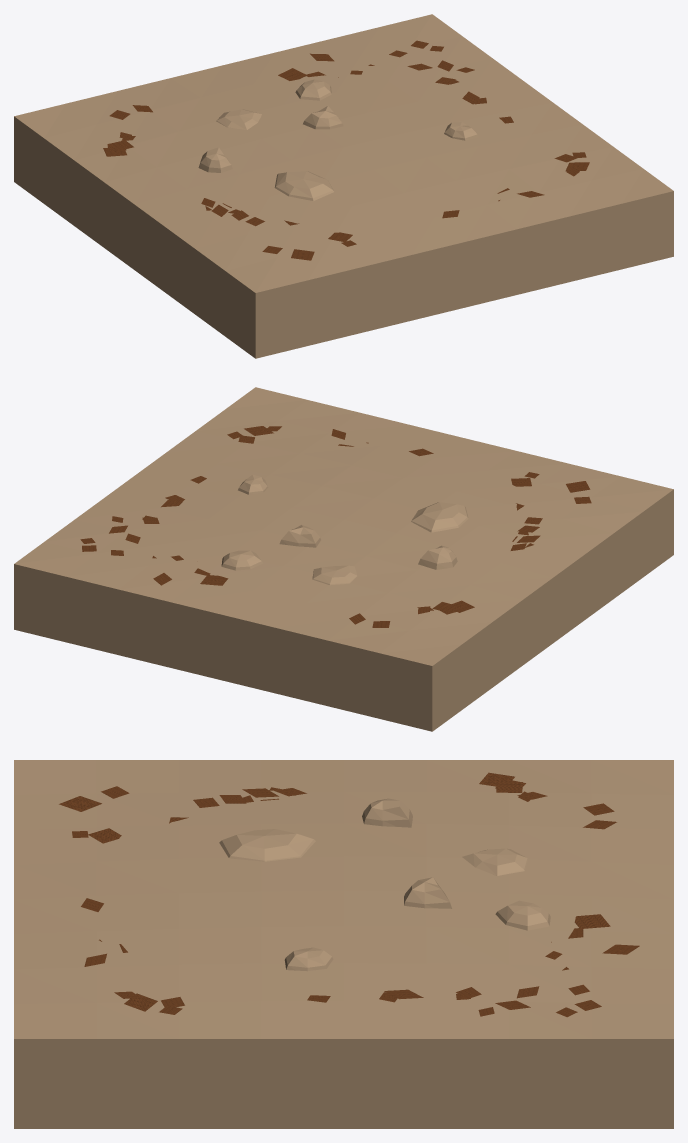
The model's file is pine-needle-tile.glb.
3 renders of one model, top to bottom at view 1: azimuth 30°, elevation 25°; view 2: azimuth 150°, elevation 25°; view 3: azimuth 270°, elevation 25°, orthographic. The views are drawn at different scales.
Visible parts, largest first — view 1: pine-needle-tile; view 2: pine-needle-tile; view 3: pine-needle-tile.
Boxes of the visible parts, left/top/right/bottom form: pine-needle-tile: left=14, top=14, right=673, bottom=358; pine-needle-tile: left=14, top=387, right=673, bottom=731; pine-needle-tile: left=14, top=760, right=673, bottom=1128.
Size of the model in its own units: 2 by 0.3837 by 2.
2 materials, 1 textured.
